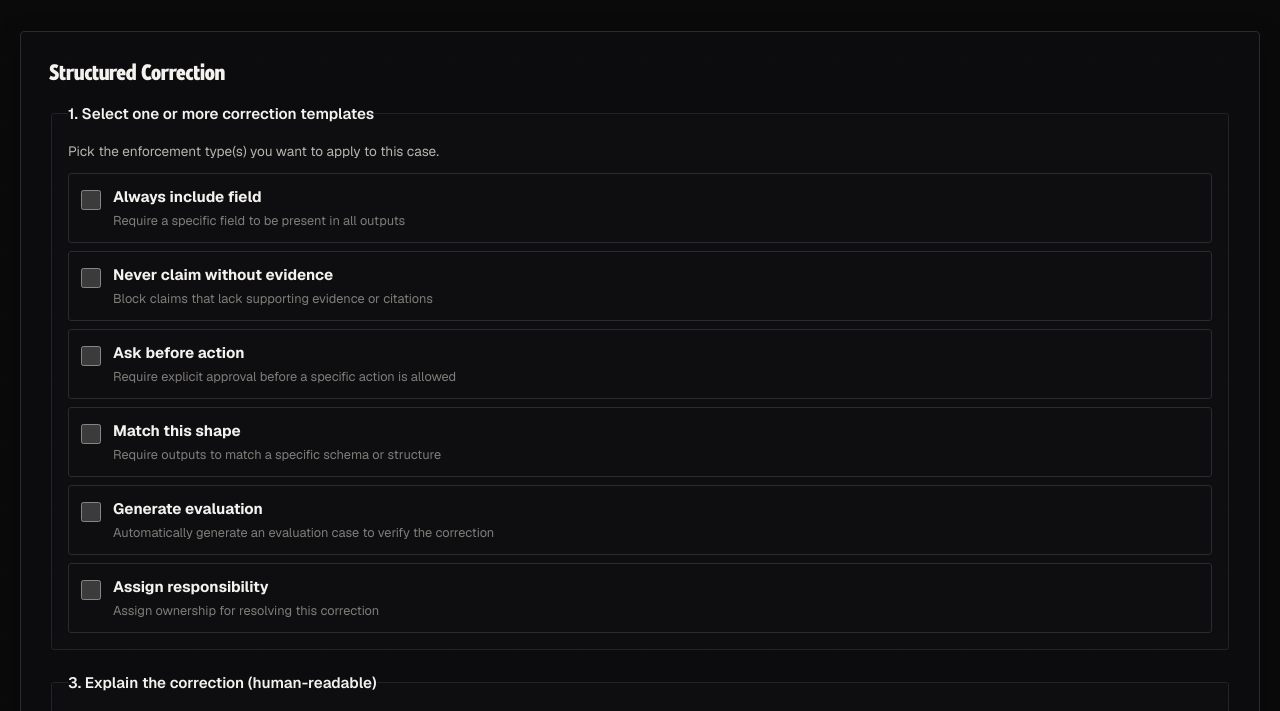
Test case: CorrectionTemplateForm › preview functionality › toggles preview panel when preview button is clicked
The image size is (1280, 711).
Click the checkbox labelled "Always include field" at (91, 200), box [81,190,101,210]
(page scrolled)
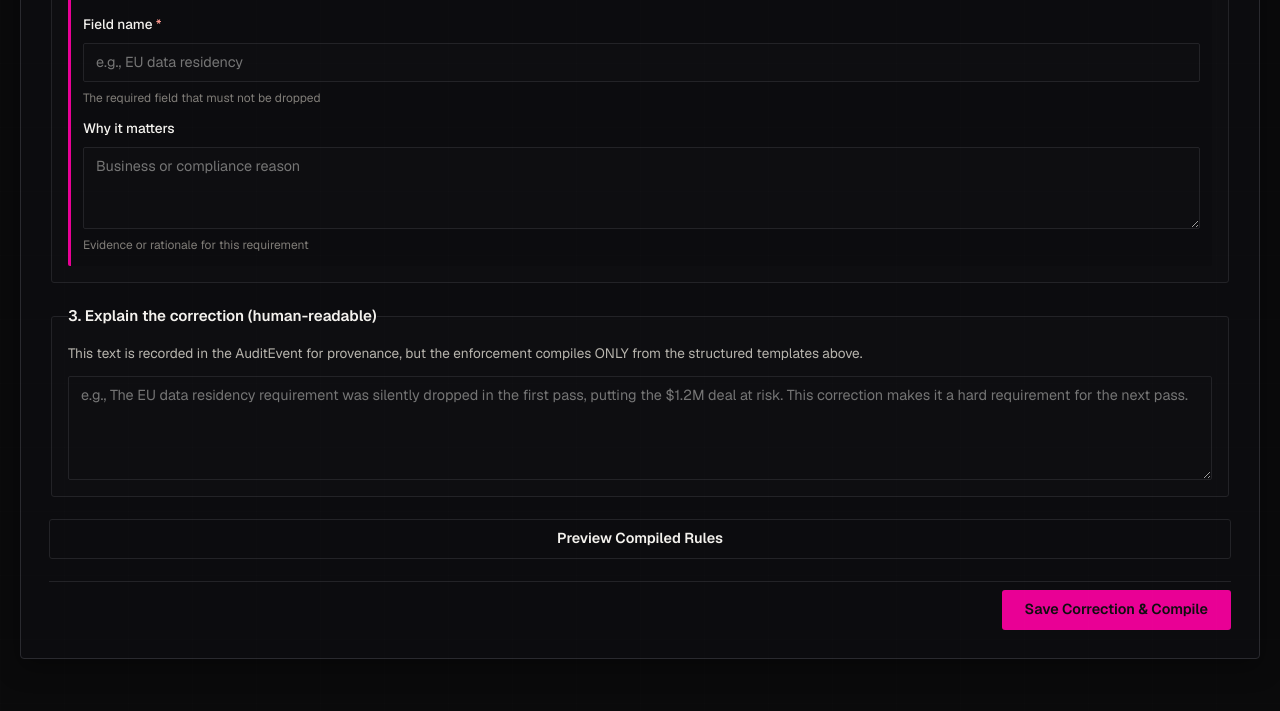
Click the button "Preview Compiled Rules" at (640, 539), box [49,519,1231,559]
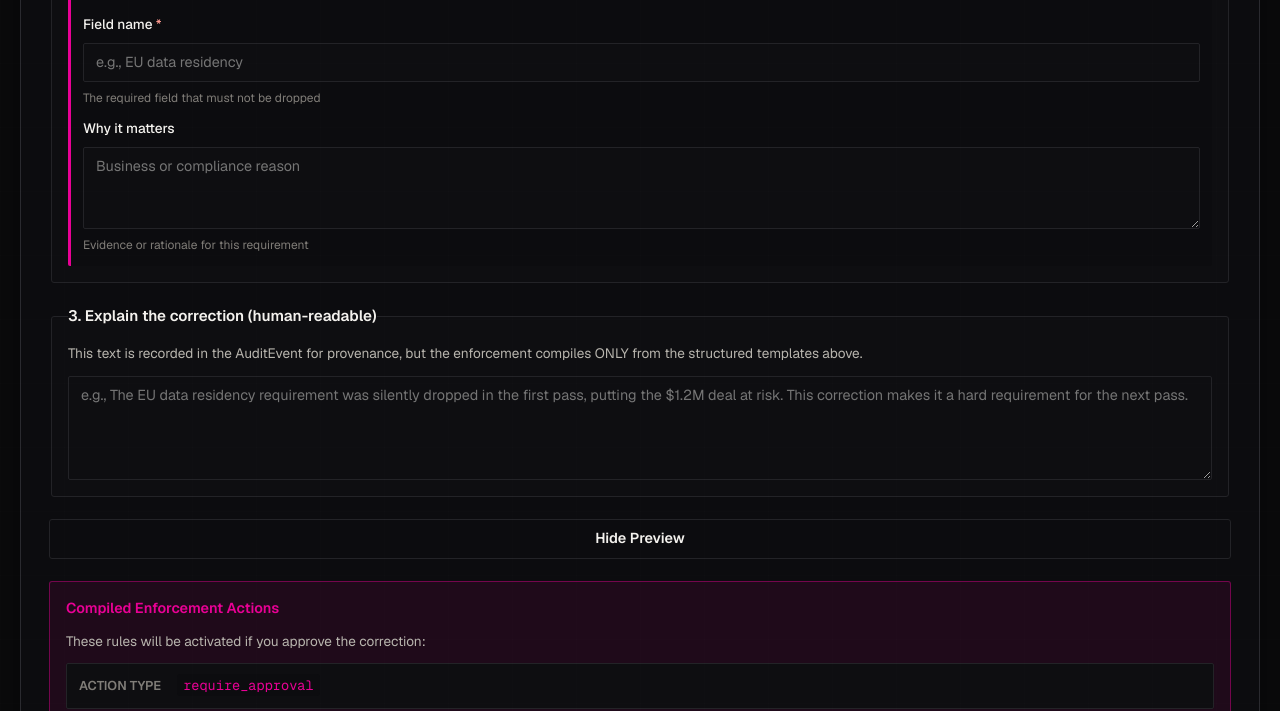
Now the heading "Compiled Enforcement Actions" is shown, box [66,599,279,617]
Click the button named "Preview Compiled Rules" at (640, 539), box [49,519,1231,559]
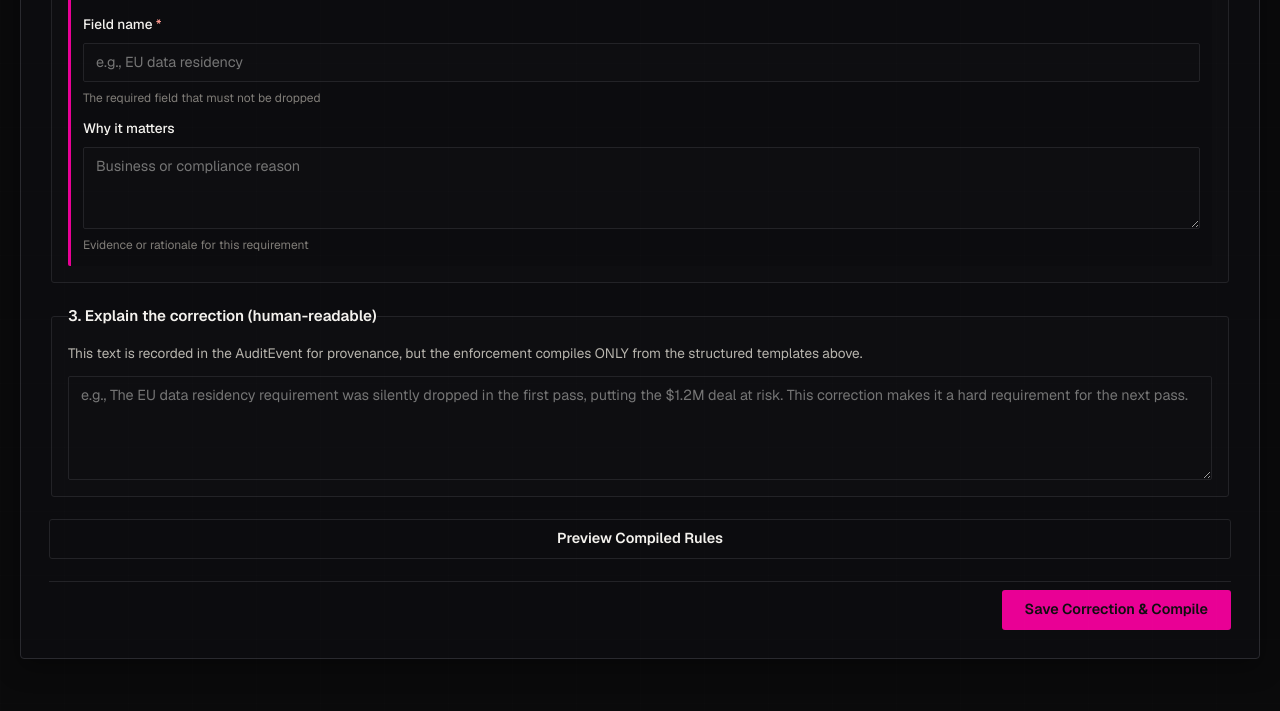
Now the heading "Compiled Enforcement Actions" is gone
